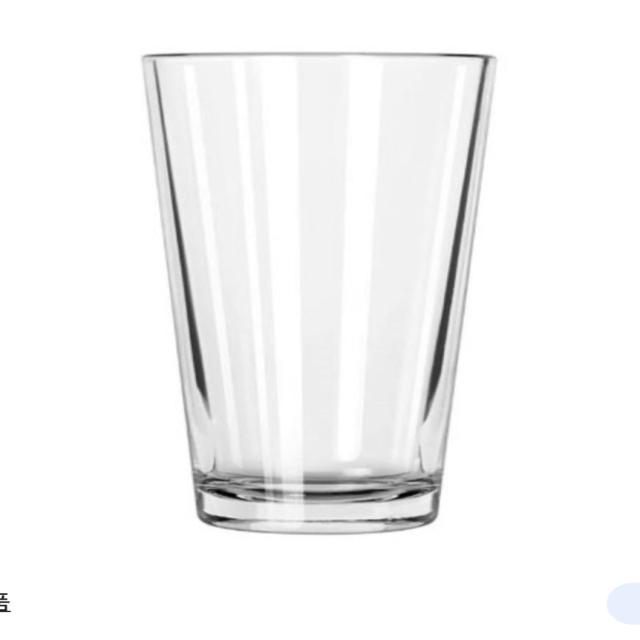recyclable: (104, 32, 540, 552)
